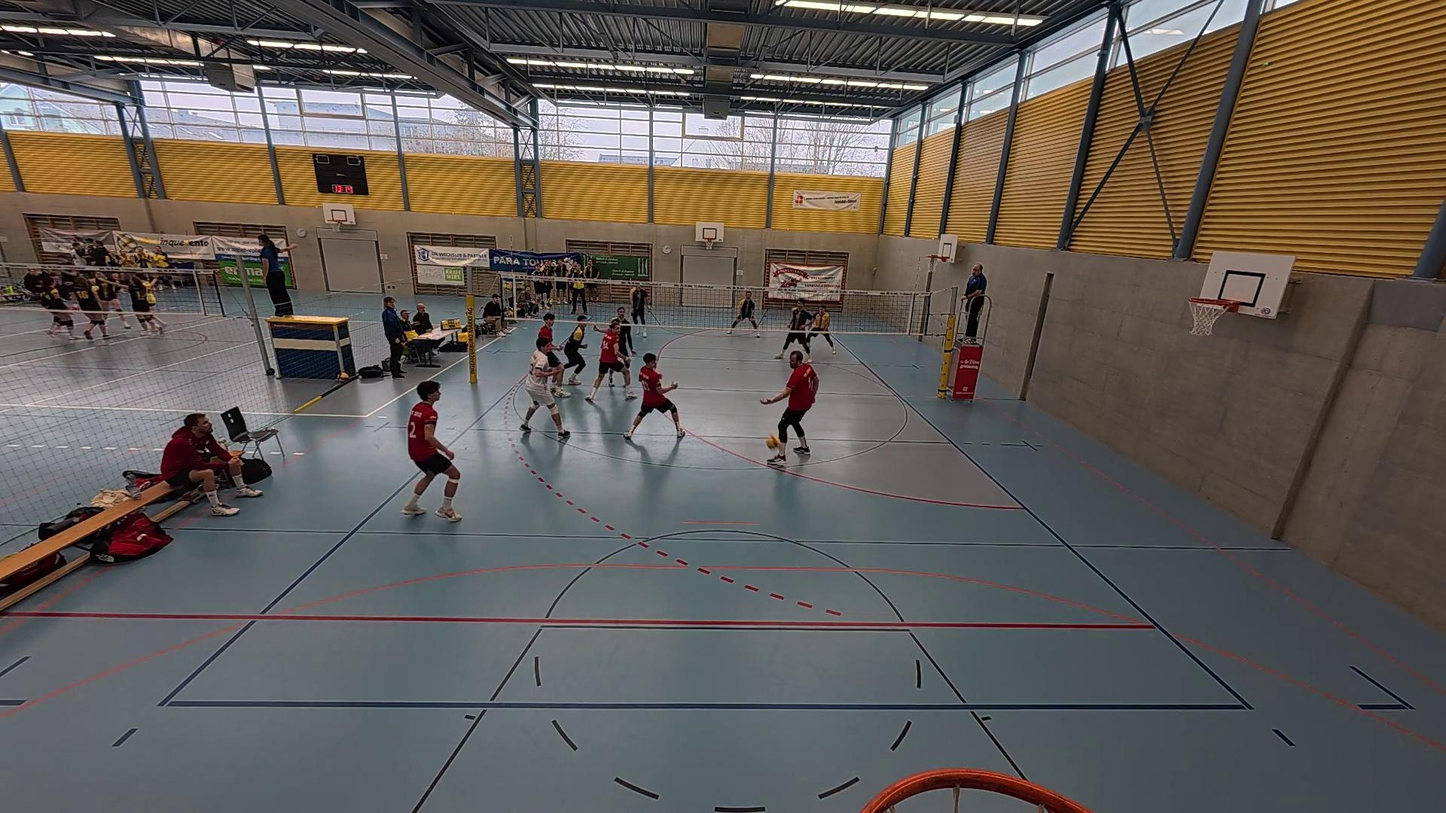Player: (402, 381, 462, 520), (758, 347, 819, 467), (627, 353, 687, 437), (520, 343, 570, 438), (593, 314, 631, 400), (532, 314, 566, 400), (560, 316, 593, 394), (611, 307, 636, 381), (780, 305, 811, 362), (729, 292, 763, 337), (811, 309, 838, 353), (631, 283, 651, 331)
ball: (766, 434, 784, 449)
